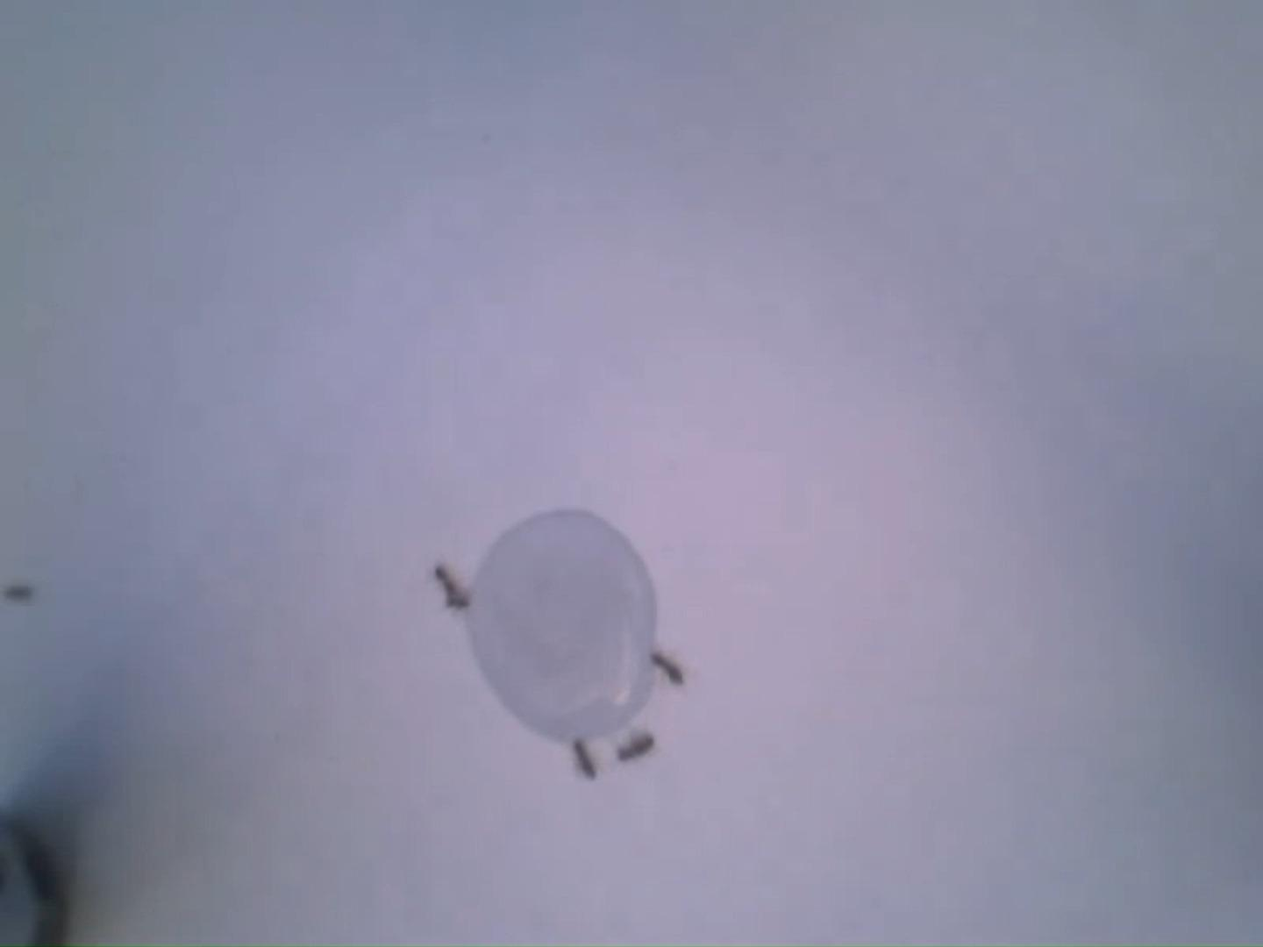Ant: (619, 731, 659, 762), (654, 649, 685, 683), (573, 739, 598, 778), (435, 562, 460, 595), (3, 582, 35, 602), (445, 591, 471, 610)
